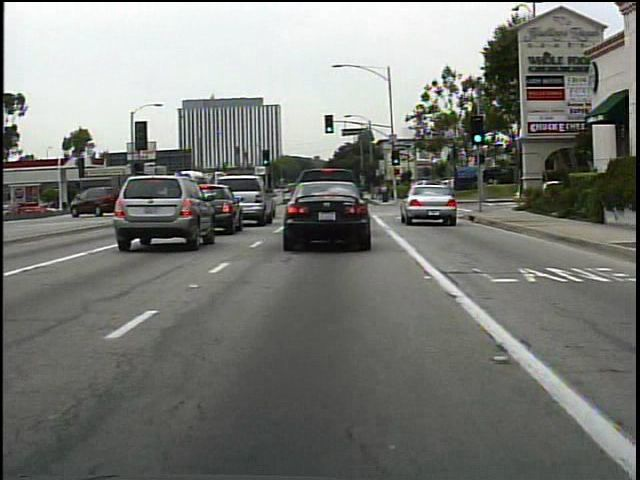person: (377, 180, 392, 204)
